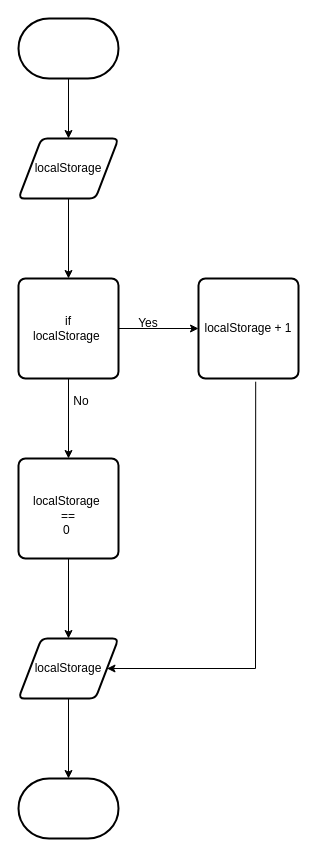
The diagram is 316 pixels wide and 856 high, and some of its shapes have lost their labels. The shapes that lost their labels are listed below. From the top down, each one's centre as x and y in pixels, then its label:
point (68, 48): Start
point (68, 808): Stop
